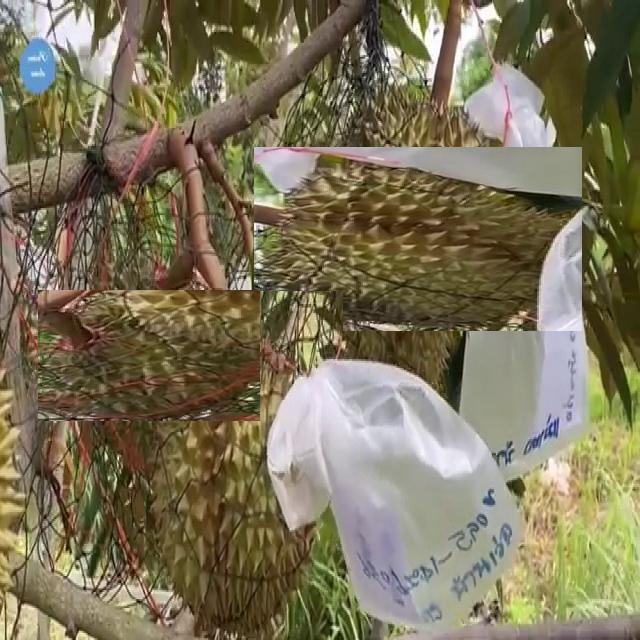durian: (140, 291, 343, 630), (290, 111, 546, 368), (61, 267, 238, 444)
